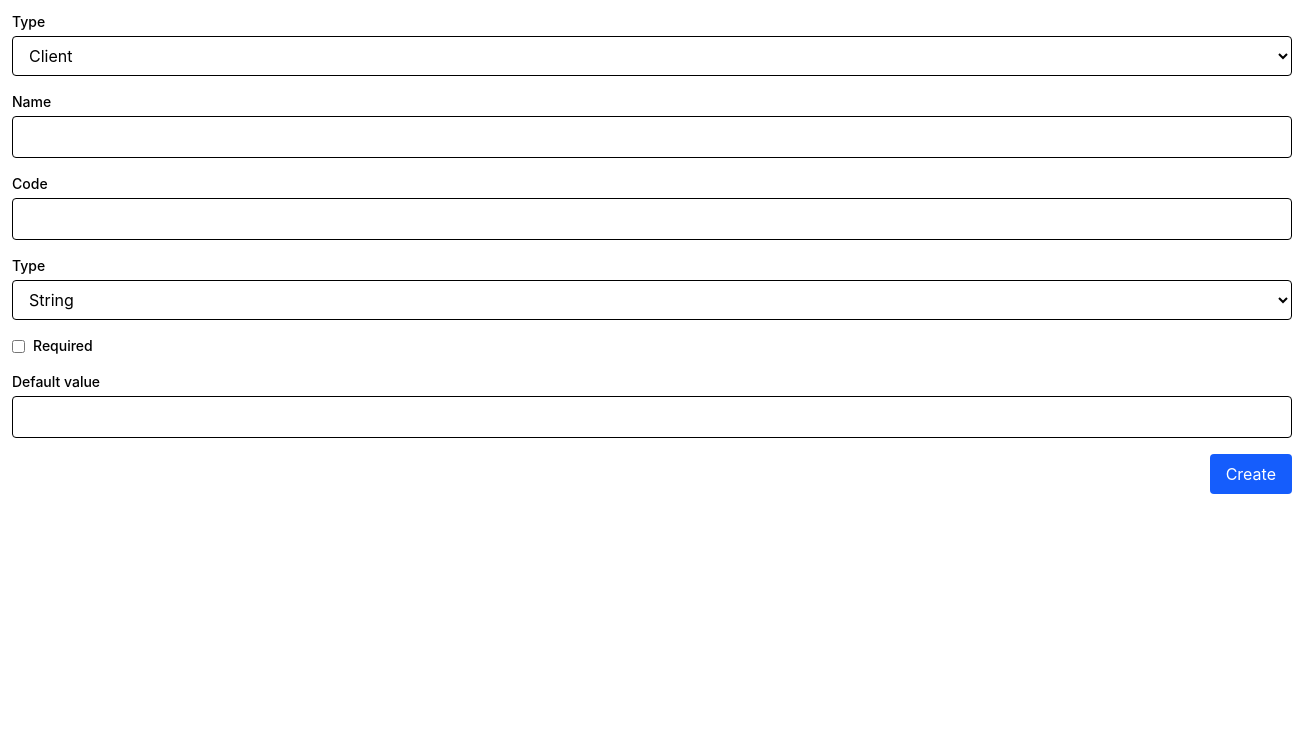
Test case: EavAttributeForm › shows validation error for empty code
// Type special characters that produce an empty slug, so code stays empty
Type "!!!" into the field labelled "Name" at (652, 137), box [12,116,1292,158]
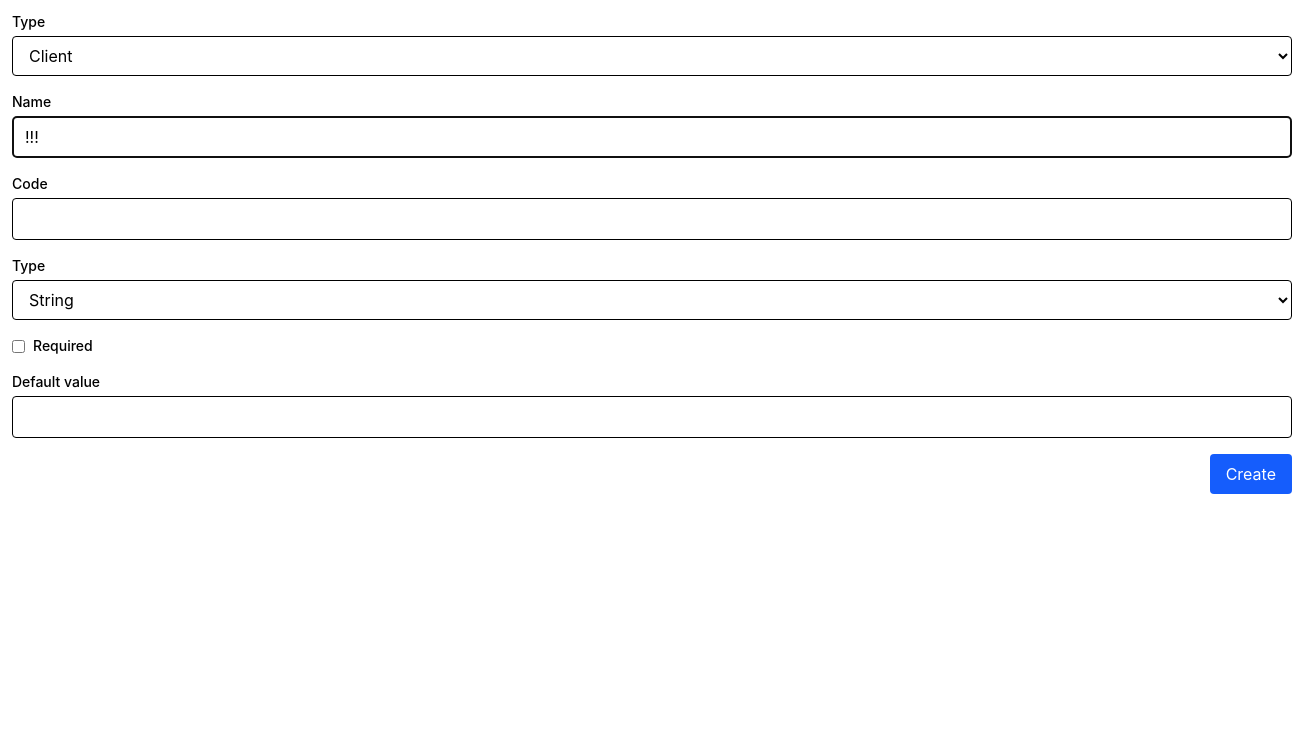
Click the button "Create" at (1251, 474), box [1210,454,1292,494]
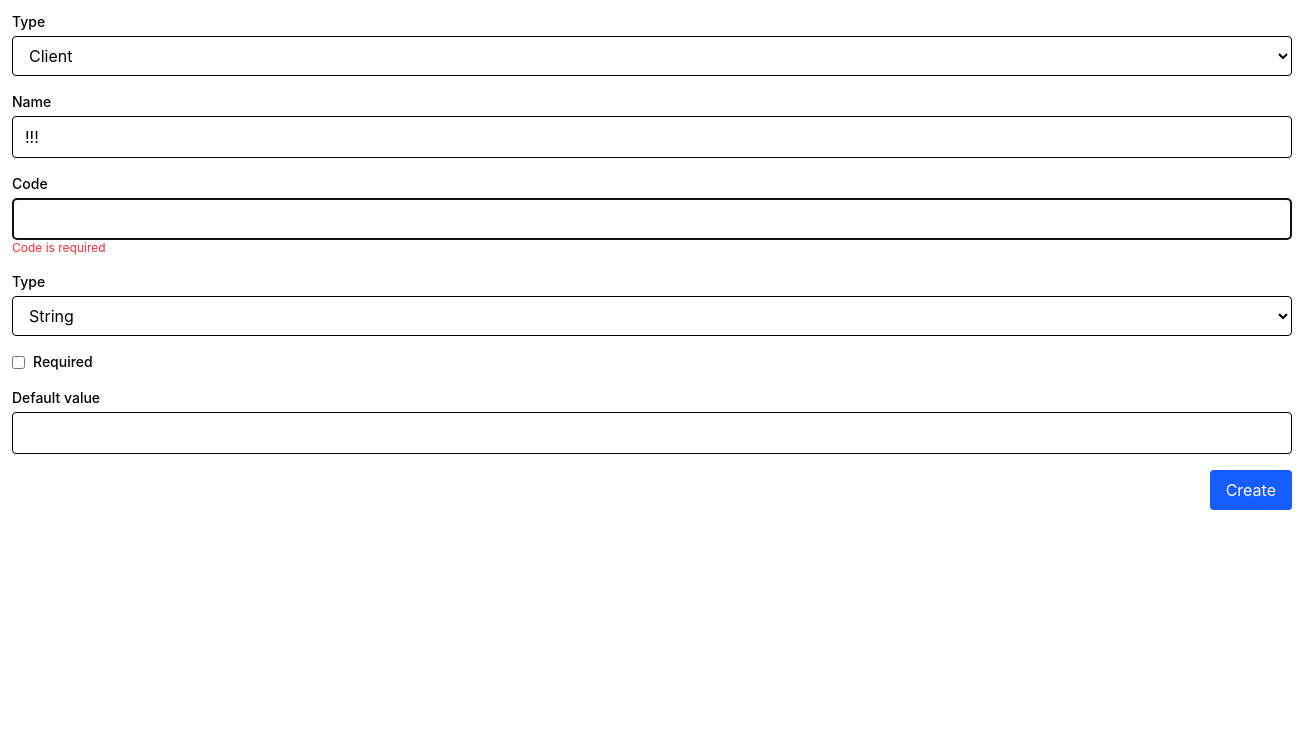
Expected: the text "Code is required" is shown, [12,240,106,255]
